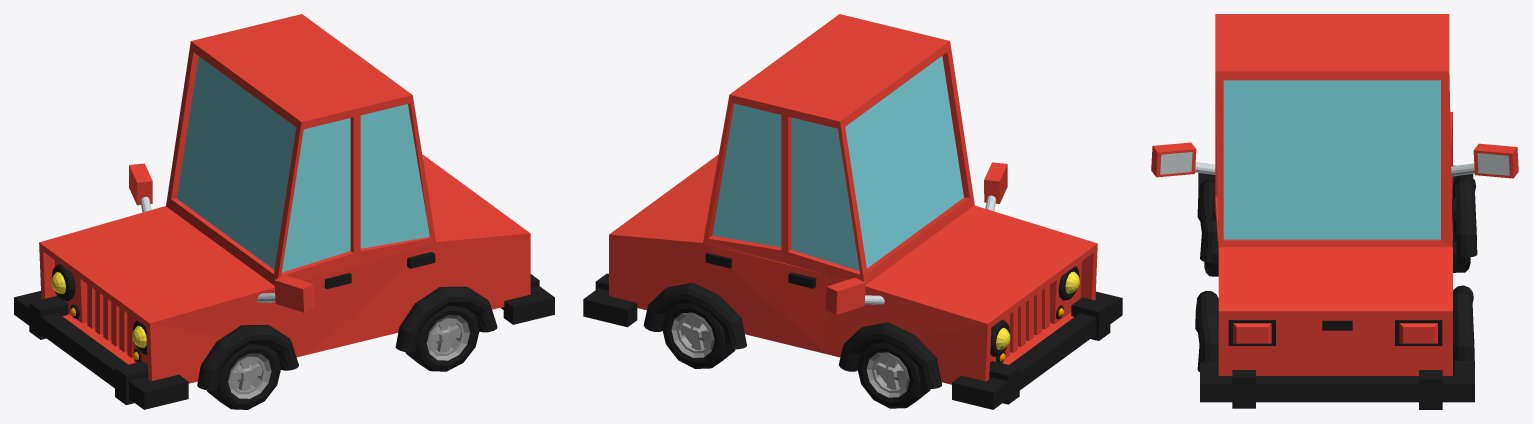
File: group2104290238_lev3.glb
3 views of the same model, side by side, from view 1: azimuth 30°, elevation 25°; view 2: azimuth 150°, elevation 25°; view 3: azimuth 270°, elevation 25° (orthographic). The views are drawn at different scales.
Visible parts, largest first — view 1: group2104290238_lev3; view 2: group2104290238_lev3; view 3: group2104290238_lev3.
Part boxes in pixels (x1,y1,x2,y2): group2104290238_lev3: (14,14,554,409); group2104290238_lev3: (583,14,1122,409); group2104290238_lev3: (1151,14,1518,409).
Size of the model in its own units: 2.81 by 1.82 by 2.03.
